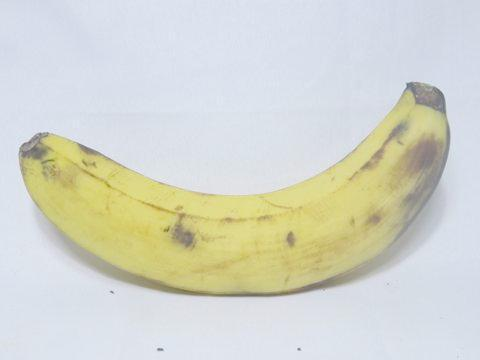ripe: (10, 71, 468, 305)
